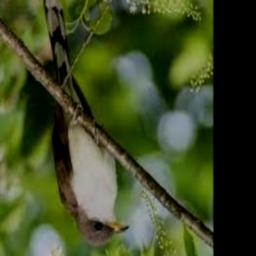Cuckoo: (43, 0, 128, 246)
